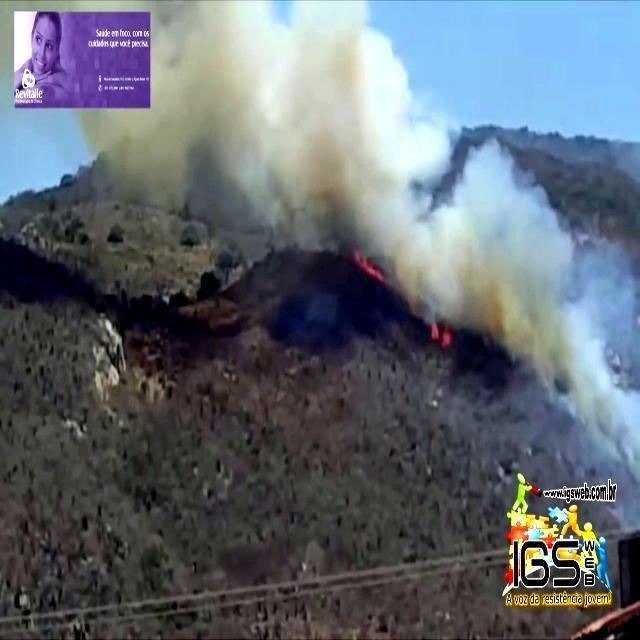Smoke: (120, 0, 432, 308), (422, 128, 640, 440)
